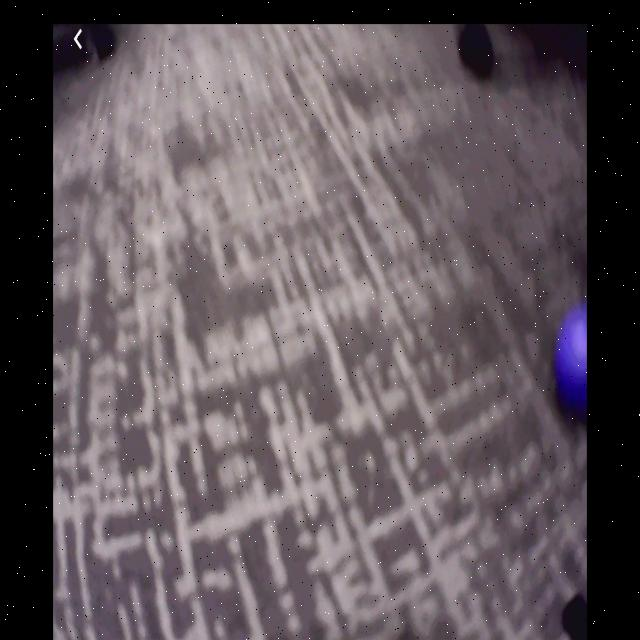ball: (557, 311, 588, 418)
